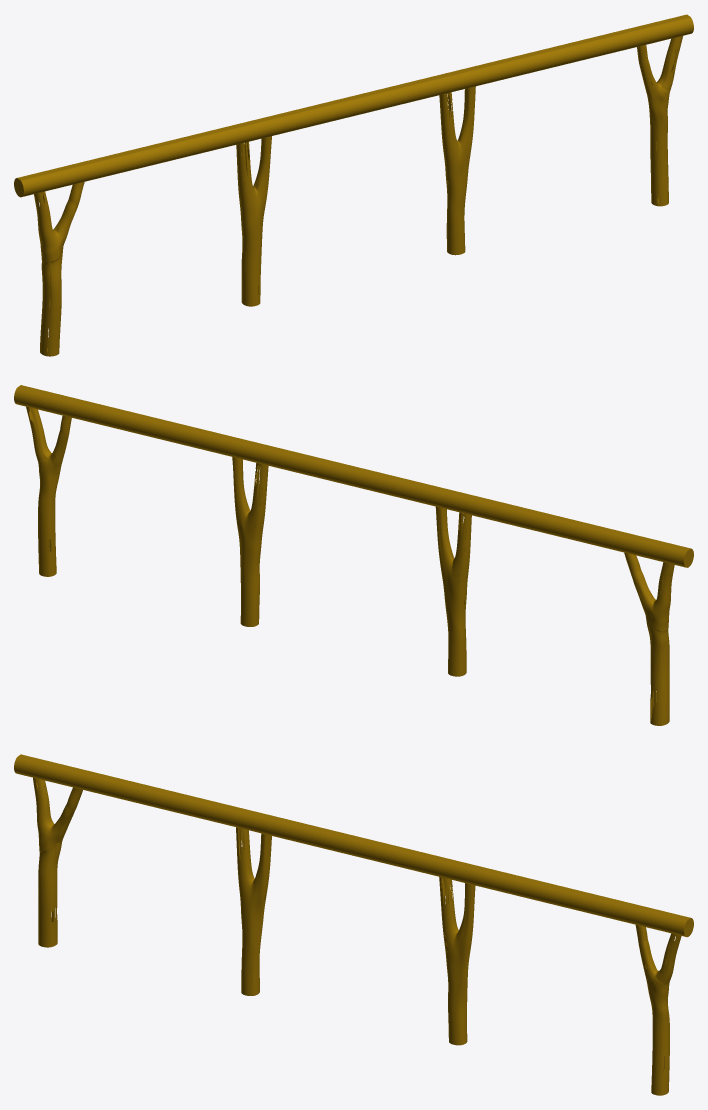
File: 1_decorative.glb
3 renders of one model, top to bottom at view 1: azimuth 30°, elevation 25°; view 2: azimuth 150°, elevation 25°; view 3: azimuth 330°, elevation 25°, orthographic.
Visible parts, largest first — view 1: skp4AB7; view 2: skp4AB7; view 3: skp4AB7.
Part boxes in pixels (<box>): skp4AB7: <box>14,14,693,356</box>; skp4AB7: <box>14,385,693,725</box>; skp4AB7: <box>14,754,693,1095</box>.
Size of the model in its own units: 11.9 by 3.05 by 0.3994.
